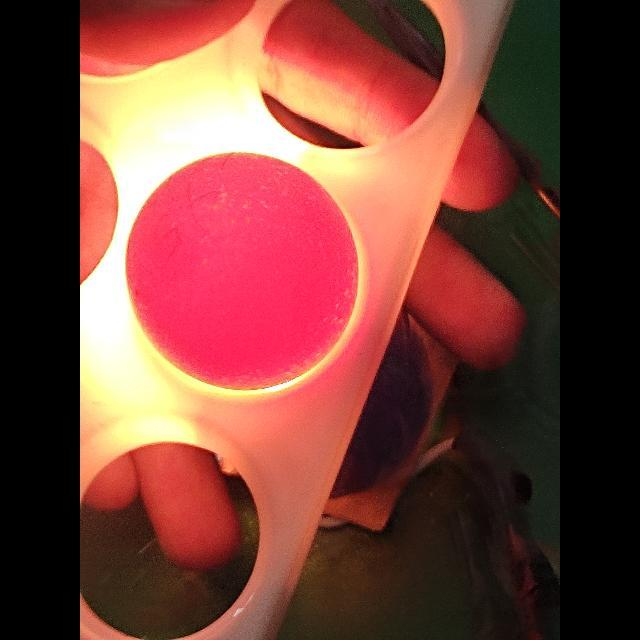Infertile: (126, 150, 362, 396)
